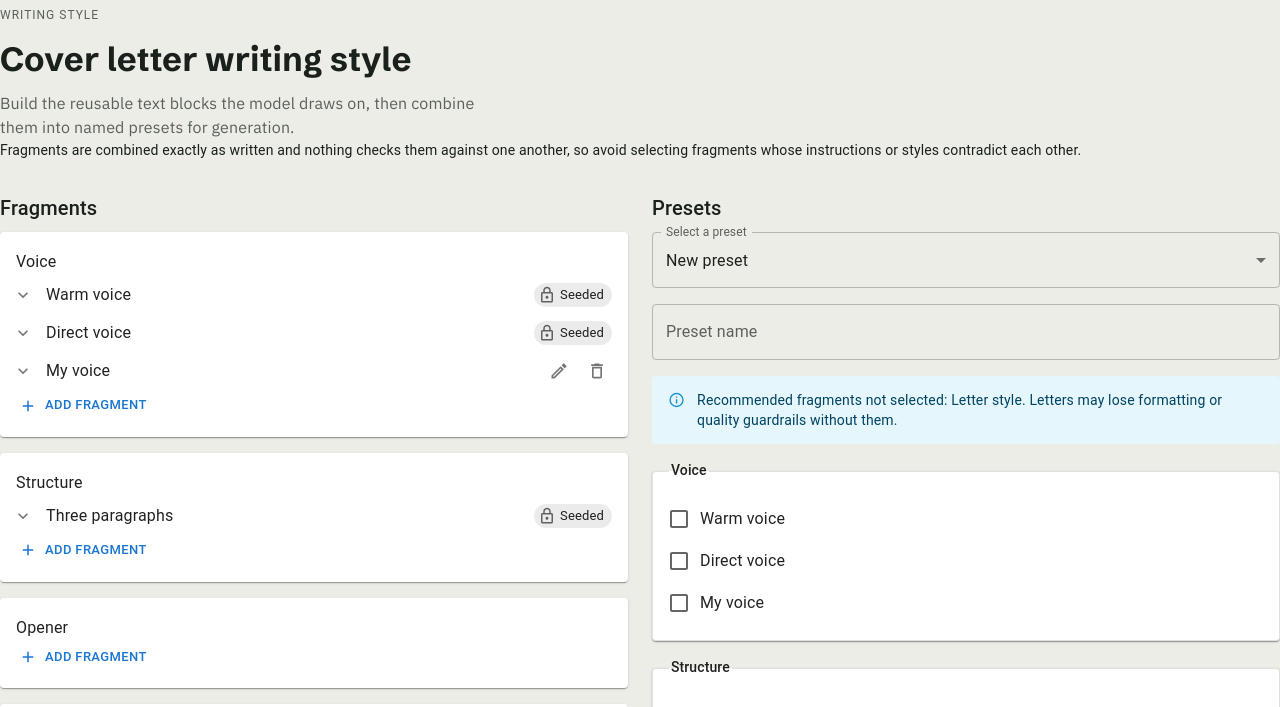
Test: WritingStylePage › shows the server error when saving a fragment fails
The width and height of the screenshot is (1280, 707).
Expected: the 1st text "My voice" is shown, [46,361,110,380]
Click the button named "Edit My voice" at (559, 371), box [544,356,574,386]
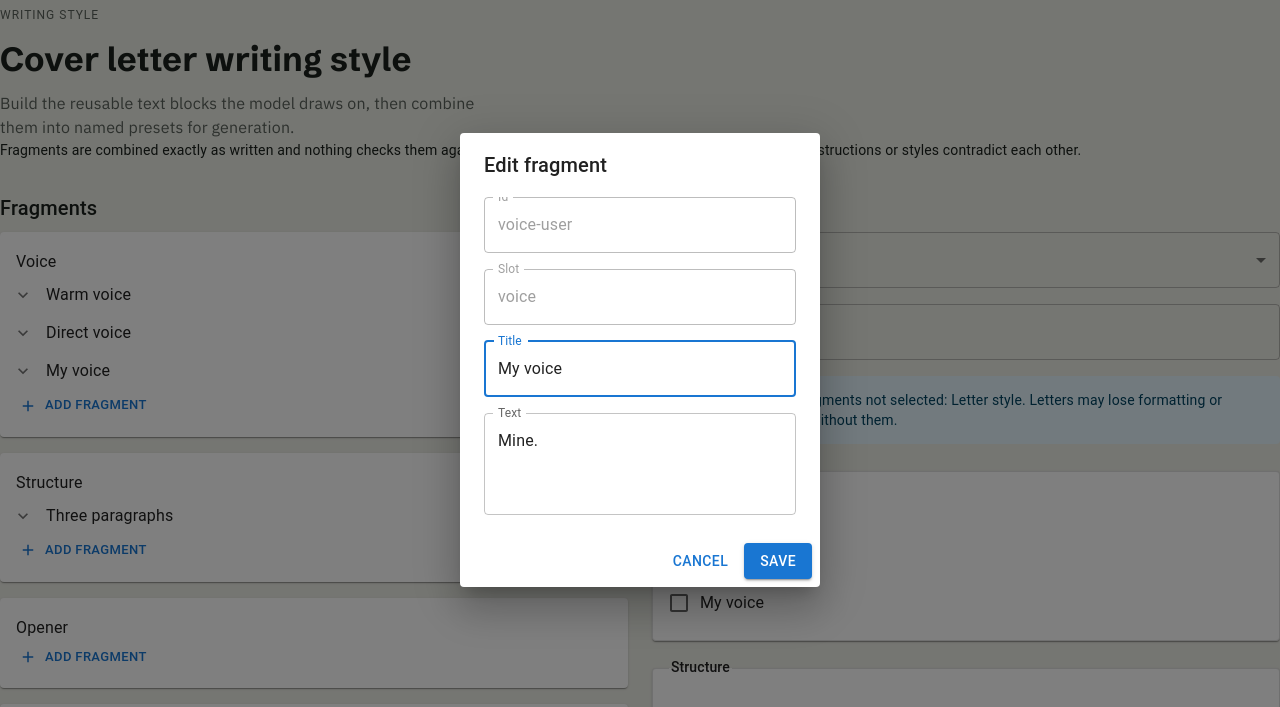
Click the button "Save" at (778, 561), box [744,543,812,579]
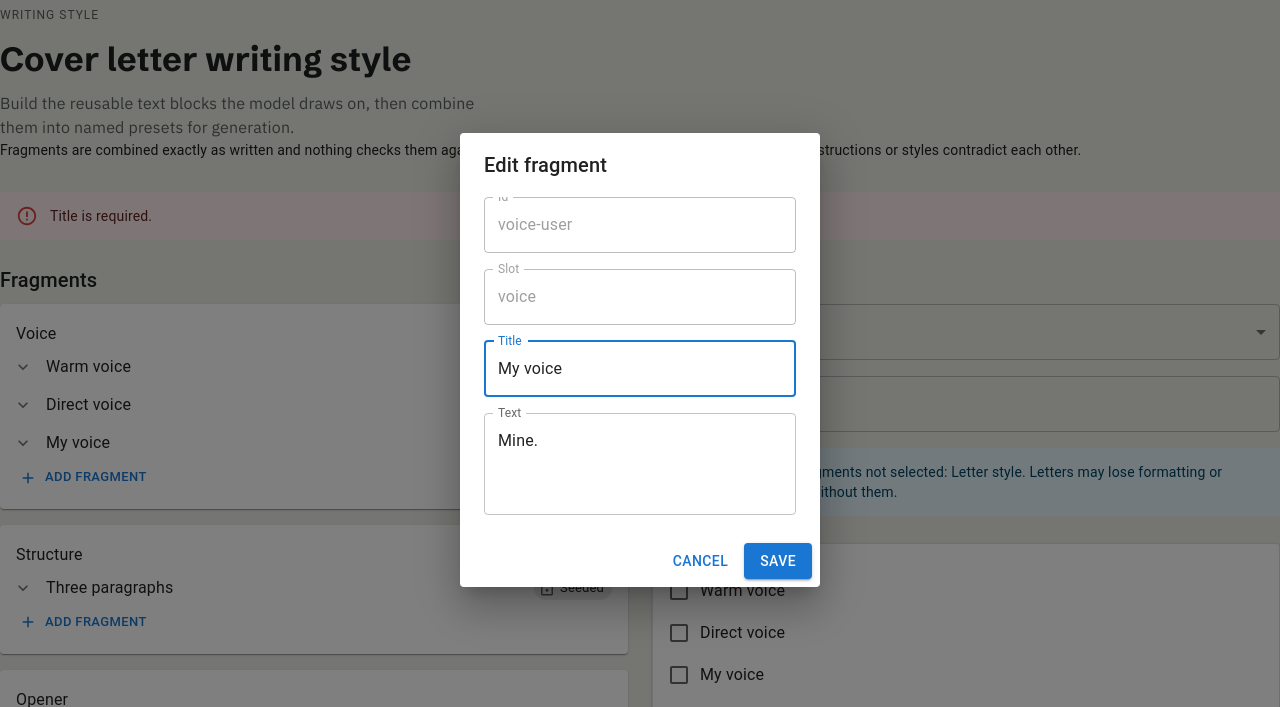
Now the text "Title is required." is shown, box [50,208,152,224]
